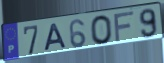6: (69, 18, 88, 50)
7: (23, 25, 39, 56)
9: (138, 7, 159, 40)
A: (43, 22, 68, 53)
F: (113, 10, 136, 44)
O: (89, 14, 114, 46)
